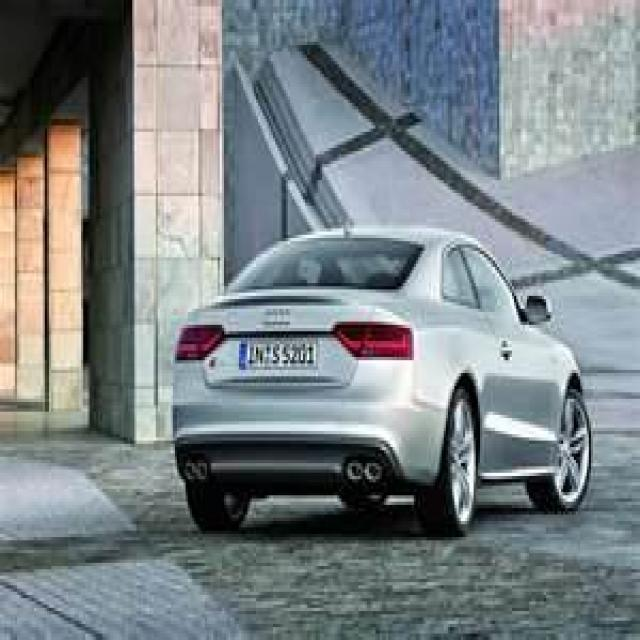car: (166, 219, 606, 550)
